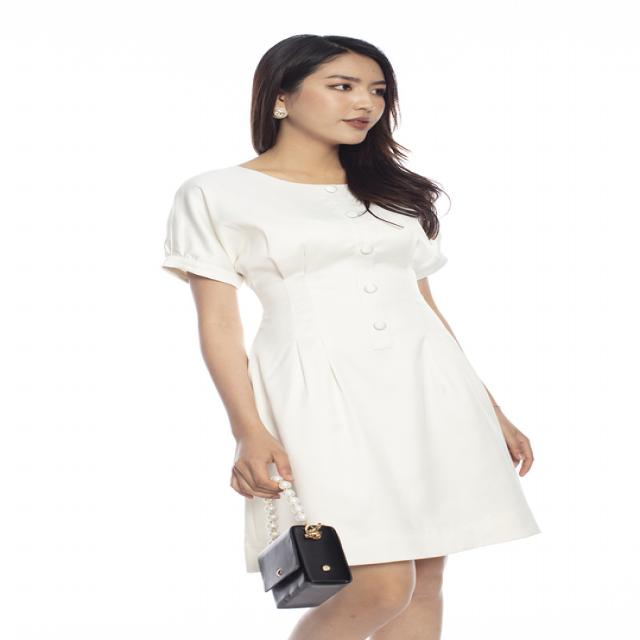clothes: (146, 152, 551, 574)
